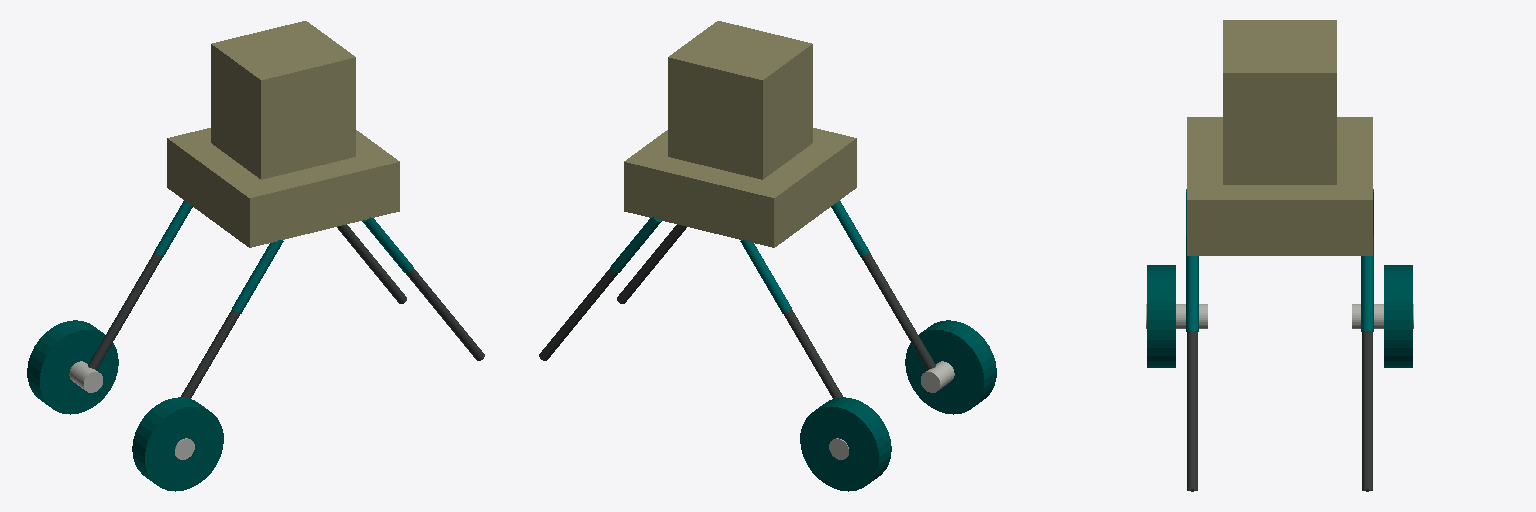
URDF robot description (five_bar_wheel_leg_balance_car):
<?xml version="1.0"?>
<robot name="five_bar_wheel_leg_balance_car">
    <material name="body_mat">
        <color rgba="0.56 0.55 0.41 1.0" />
    </material>
    <material name="link_teal">
        <color rgba="0.0 0.42 0.42 1.0" />
    </material>
    <material name="link_dark">
        <color rgba="0.25 0.27 0.26 1.0" />
    </material>
    <material name="wheel_mat">
        <color rgba="0.0 0.36 0.35 1.0" />
    </material>
    <material name="metal_mat">
        <color rgba="0.72 0.72 0.70 1.0" />
    </material>

    <link name="world" />

    <joint name="floating_base" type="floating">
        <parent link="world" />
        <child link="base_link" />
        <origin xyz="0 0 0" rpy="0 0 0" />
    </joint>

    <link name="base_link">
        <inertial>
            <origin xyz="0 0 0.1265" rpy="0 0 0" />
            <mass value="2.30" />
            <inertia ixx="0.0423" ixy="0.0" ixz="0.0" iyy="0.0447" iyz="0.0" izz="0.0406" />
        </inertial>
        <visual>
            <origin xyz="0 0 0.06" rpy="0 0 0" />
            <geometry>
                <box size="0.38 0.36 0.12" />
            </geometry>
            <material name="body_mat" />
        </visual>
        <collision>
            <origin xyz="0 0 0.06" rpy="0 0 0" />
            <geometry>
                <box size="0.38 0.36 0.12" />
            </geometry>
        </collision>
        <visual>
            <origin xyz="0 0 0.24" rpy="0 0 0" />
            <geometry>
                <box size="0.24 0.22 0.24" />
            </geometry>
            <material name="body_mat" />
        </visual>
        <collision>
            <origin xyz="0 0 0.24" rpy="0 0 0" />
            <geometry>
                <box size="0.24 0.22 0.24" />
            </geometry>
        </collision>
    </link>

    <!-- Left five-bar wheel leg, link plane y=0.17, wheel center y=0.23. -->
    <link name="left_front_upper_link">
        <inertial>
            <origin xyz="0.0922 0 0" rpy="0 0 0" />
            <mass value="0.09" />
            <inertia ixx="0.00012" ixy="0.0" ixz="0.0" iyy="0.00029" iyz="0.0" izz="0.00022" />
        </inertial>
        <visual>
            <origin xyz="0.0922 0 0" rpy="0 1.5704 0" />
            <geometry>
                <cylinder radius="0.012" length="0.1844" />
            </geometry>
            <material name="link_teal" />
        </visual>
        <collision>
            <origin xyz="0.0922 0 0" rpy="0 1.5704 0" />
            <geometry>
                <cylinder radius="0.012" length="0.1844" />
            </geometry>
        </collision>
    </link>

    <joint name="left_front_hip_joint" type="revolute">
        <parent link="base_link" />
        <child link="left_front_upper_link" />
        <origin xyz="0.11 0.17 0" rpy="0 0 0" />
        <axis xyz="0 1 0" />
        <limit lower="0.1" upper="1.8" effort="18" velocity="10" />
        <dynamics damping="0.04" friction="0.01" />
    </joint>

    <link name="left_front_lower_link">
        <inertial>
            <origin xyz="0.1565 0 0" rpy="0 0 0" />
            <mass value="0.12" />
            <inertia ixx="0.00018" ixy="0.0" ixz="0.0" iyy="0.00108" iyz="0.0" izz="0.00094" />
        </inertial>
        <visual>
            <origin xyz="0.1565 0 0" rpy="0 -1.57 0" />
            <geometry>
                <cylinder radius="0.011" length="0.3130" />
            </geometry>
            <material name="link_dark" />
        </visual>
        <collision>
            <origin xyz="0.1565 0 0" rpy="0 -1.57 0" />
            <geometry>
                <cylinder radius="0.011" length="0.3130" />
            </geometry>
        </collision>
    </link>

    <joint name="left_front_knee_joint" type="revolute">
        <parent link="left_front_upper_link" />
        <child link="left_front_lower_link" />
        <origin xyz="0.1844 0 0" rpy="0 0 0" />
        <axis xyz="0 1 0" />
        <limit lower="0" upper="3.14159" effort="3" velocity="12" />
        <dynamics damping="0.02" friction="0.004" />
    </joint>

    <link name="left_rear_upper_link">
        <inertial>
            <origin xyz="0.0922 0 0" rpy="0 0 0" />
            <mass value="0.09" />
            <inertia ixx="0.00012" ixy="0.0" ixz="0.0" iyy="0.00029" iyz="0.0" izz="0.00022" />
        </inertial>
        <visual>
            <origin xyz="0.0922 0 0" rpy="0 1.5704 0" />
            <geometry>
                <cylinder radius="0.012" length="0.1844" />
            </geometry>
            <material name="link_teal" />
        </visual>
        <collision>
            <origin xyz="0.0922 0 0" rpy="0 1.5704 0" />
            <geometry>
                <cylinder radius="0.012" length="0.1844" />
            </geometry>
        </collision>
    </link>

    <joint name="left_rear_hip_joint" type="revolute">
        <parent link="base_link" />
        <child link="left_rear_upper_link" />
        <origin xyz="-0.11 0.17 0" rpy="0 0 0" />
        <axis xyz="0 1 0" />
        <limit lower="1.34159" upper="3.041592" effort="18" velocity="10" />
        <dynamics damping="0.04" friction="0.01" />
    </joint>

    <link name="left_rear_lower_link">
        <inertial>
            <origin xyz="0.1565 0 0" rpy="0 0 0" />
            <mass value="0.12" />
            <inertia ixx="0.00018" ixy="0.0" ixz="0.0" iyy="0.00108" iyz="0.0" izz="0.00094" />
        </inertial>
        <visual>
            <origin xyz="0.1565 0 0" rpy="0 -1.57 0" />
            <geometry>
                <cylinder radius="0.011" length="0.3130" />
            </geometry>
            <material name="link_dark" />
        </visual>
        <collision>
            <origin xyz="0.1565 0 0" rpy="0 -1.57 0" />
            <geometry>
                <cylinder radius="0.011" length="0.3130" />
            </geometry>
        </collision>
    </link>

    <joint name="left_rear_knee_joint" type="revolute">
        <parent link="left_rear_upper_link" />
        <child link="left_rear_lower_link" />
        <origin xyz="0.1844 0 0" rpy="0 0 0" />
        <axis xyz="0 1 0" />
        <limit lower="-3.14159" upper="0" effort="3" velocity="12" />
        <dynamics damping="0.02" friction="0.004" />
    </joint>

    <link name="left_wheel_carrier">
        <inertial>
            <origin xyz="0 0.03 0" rpy="0 0 0" />
            <mass value="0.09" />
            <inertia ixx="0.00008" ixy="0.0" ixz="0.0" iyy="0.00004" iyz="0.0" izz="0.00008" />
        </inertial>
        <visual>
            <origin xyz="0 0.03 0" rpy="1.5708 0 0" />
            <geometry>
                <cylinder radius="0.025" length="0.12" />
            </geometry>
            <material name="metal_mat" />
        </visual>
        <collision>
            <origin xyz="0 0.03 0" rpy="1.5708 0 0" />
            <geometry>
                <cylinder radius="0.025" length="0.12" />
            </geometry>
        </collision>
    </link>

    <joint name="left_rear_ankle_joint" type="revolute">
        <parent link="left_rear_lower_link" />
        <child link="left_wheel_carrier" />
        <origin xyz="0.3130 0 0" rpy="0 0 0" />
        <axis xyz="0 1 0" />
        <limit lower="-2.80" upper="2.80" effort="3" velocity="12" />
        <dynamics damping="0.02" friction="0.004" />
    </joint>

    <link name="left_wheel">
        <inertial>
            <origin xyz="0 0 0" rpy="0 0 0" />
            <mass value="0.32" />
            <inertia ixx="0.00102" ixy="0.0" ixz="0.0" iyy="0.00102" iyz="0.0" izz="0.00160" />
        </inertial>
        <visual>
            <origin xyz="0 0 0" rpy="1.5708 0 0" />
            <geometry>
                <cylinder radius="0.10" length="0.055" />
            </geometry>
            <material name="wheel_mat" />
        </visual>
        <collision>
            <origin xyz="0 0 0" rpy="1.5708 0 0" />
            <geometry>
                <cylinder radius="0.10" length="0.055" />
            </geometry>
        </collision>
    </link>

    <joint name="left_wheel_joint" type="continuous">
        <parent link="left_wheel_carrier" />
        <child link="left_wheel" />
        <origin xyz="0 0.06 0" rpy="0 0 0" />
        <axis xyz="0 1 0" />
        <limit effort="16" velocity="45" />
        <dynamics damping="0.01" friction="0.004" />
    </joint>

    <!-- Right five-bar wheel leg, mirrored about the x-z plane. -->
    <link name="right_front_upper_link">
        <inertial>
            <origin xyz="0.0922 0 0" rpy="0 0 0" />
            <mass value="0.09" />
            <inertia ixx="0.00012" ixy="0.0" ixz="0.0" iyy="0.00029" iyz="0.0" izz="0.00022" />
        </inertial>
        <visual>
            <origin xyz="0.0922 0 0" rpy="0 1.5704 0" />
            <geometry>
                <cylinder radius="0.012" length="0.1844" />
            </geometry>
            <material name="link_teal" />
        </visual>
        <collision>
            <origin xyz="0.0922 0 0" rpy="0 1.5704 0" />
            <geometry>
                <cylinder radius="0.012" length="0.1844" />
            </geometry>
        </collision>
    </link>

    <joint name="right_front_hip_joint" type="revolute">
        <parent link="base_link" />
        <child link="right_front_upper_link" />
        <origin xyz="0.11 -0.17 0" rpy="0 0 0" />
        <axis xyz="0 1 0" />
        <limit lower="0.1" upper="1.8" effort="18" velocity="10" />
        <dynamics damping="0.04" friction="0.01" />
    </joint>

    <link name="right_front_lower_link">
        <inertial>
            <origin xyz="0.1565 0 0" rpy="0 0 0" />
            <mass value="0.12" />
            <inertia ixx="0.00018" ixy="0.0" ixz="0.0" iyy="0.00108" iyz="0.0" izz="0.00094" />
        </inertial>
        <visual>
            <origin xyz="0.1565 0 0" rpy="0 -1.57 0" />
            <geometry>
                <cylinder radius="0.011" length="0.3130" />
            </geometry>
            <material name="link_dark" />
        </visual>
        <collision>
            <origin xyz="0.1565 0 0" rpy="0 -1.57 0" />
            <geometry>
                <cylinder radius="0.011" length="0.3130" />
            </geometry>
        </collision>
    </link>

    <joint name="right_front_knee_joint" type="revolute">
        <parent link="right_front_upper_link" />
        <child link="right_front_lower_link" />
        <origin xyz="0.1844 0 0" rpy="0 0 0" />
        <axis xyz="0 1 0" />
        <limit lower="0" upper="3.14159" effort="3" velocity="12" />
        <dynamics damping="0.02" friction="0.004" />
    </joint>

    <link name="right_rear_upper_link">
        <inertial>
            <origin xyz="0.0922 0 0" rpy="0 0 0" />
            <mass value="0.09" />
            <inertia ixx="0.00012" ixy="0.0" ixz="0.0" iyy="0.00029" iyz="0.0" izz="0.00022" />
        </inertial>
        <visual>
            <origin xyz="0.0922 0 0" rpy="0 1.5704 0" />
            <geometry>
                <cylinder radius="0.012" length="0.1844" />
            </geometry>
            <material name="link_teal" />
        </visual>
        <collision>
            <origin xyz="0.0922 0 0" rpy="0 1.5704 0" />
            <geometry>
                <cylinder radius="0.012" length="0.1844" />
            </geometry>
        </collision>
    </link>

    <joint name="right_rear_hip_joint" type="revolute">
        <parent link="base_link" />
        <child link="right_rear_upper_link" />
        <origin xyz="-0.11 -0.17 0" rpy="0 0 0" />
        <axis xyz="0 1 0" />
        <limit lower="1.34159" upper="3.041592" effort="18" velocity="10" />
        <dynamics damping="0.04" friction="0.01" />
    </joint>

    <link name="right_rear_lower_link">
        <inertial>
            <origin xyz="0.1565 0 0" rpy="0 0 0" />
            <mass value="0.12" />
            <inertia ixx="0.00018" ixy="0.0" ixz="0.0" iyy="0.00108" iyz="0.0" izz="0.00094" />
        </inertial>
        <visual>
            <origin xyz="0.1565 0 0" rpy="0 -1.57 0" />
            <geometry>
                <cylinder radius="0.011" length="0.3130" />
            </geometry>
            <material name="link_dark" />
        </visual>
        <collision>
            <origin xyz="0.1565 0 0" rpy="0 -1.57 0" />
            <geometry>
                <cylinder radius="0.011" length="0.3130" />
            </geometry>
        </collision>
    </link>

    <joint name="right_rear_knee_joint" type="revolute">
        <parent link="right_rear_upper_link" />
        <child link="right_rear_lower_link" />
        <origin xyz="0.1844 0 0" rpy="0 0 0" />
        <axis xyz="0 1 0" />
        <limit lower="-3.14159" upper="0" effort="3" velocity="12" />
        <dynamics damping="0.02" friction="0.004" />
    </joint>

    <link name="right_wheel_carrier">
        <inertial>
            <origin xyz="0 -0.03 0" rpy="0 0 0" />
            <mass value="0.09" />
            <inertia ixx="0.00008" ixy="0.0" ixz="0.0" iyy="0.00004" iyz="0.0" izz="0.00008" />
        </inertial>
        <visual>
            <origin xyz="0 -0.03 0" rpy="1.5708 0 0" />
            <geometry>
                <cylinder radius="0.025" length="0.12" />
            </geometry>
            <material name="metal_mat" />
        </visual>
        <collision>
            <origin xyz="0 -0.03 0" rpy="1.5708 0 0" />
            <geometry>
                <cylinder radius="0.025" length="0.12" />
            </geometry>
        </collision>
    </link>

    <joint name="right_rear_ankle_joint" type="revolute">
        <parent link="right_rear_lower_link" />
        <child link="right_wheel_carrier" />
        <origin xyz="0.3130 0 0" rpy="0 0 0" />
        <axis xyz="0 1 0" />
        <limit lower="-2.80" upper="2.80" effort="3" velocity="12" />
        <dynamics damping="0.02" friction="0.004" />
    </joint>

    <link name="right_wheel">
        <inertial>
            <origin xyz="0 0 0" rpy="0 0 0" />
            <mass value="0.32" />
            <inertia ixx="0.00102" ixy="0.0" ixz="0.0" iyy="0.00102" iyz="0.0" izz="0.00160" />
        </inertial>
        <visual>
            <origin xyz="0 0 0" rpy="1.5708 0 0" />
            <geometry>
                <cylinder radius="0.10" length="0.055" />
            </geometry>
            <material name="wheel_mat" />
        </visual>
        <collision>
            <origin xyz="0 0 0" rpy="1.5708 0 0" />
            <geometry>
                <cylinder radius="0.10" length="0.055" />
            </geometry>
        </collision>
    </link>

    <joint name="right_wheel_joint" type="continuous">
        <parent link="right_wheel_carrier" />
        <child link="right_wheel" />
        <origin xyz="0 -0.06 0" rpy="0 0 0" />
        <axis xyz="0 1 0" />
        <limit effort="16" velocity="45" />
        <dynamics damping="0.01" friction="0.004" />
    </joint>
</robot>

--- Facts derived from the render (not from the file) ---
The picture shows the robot from 3 angles, left to right: view 1: azimuth 30°, elevation 25°; view 2: azimuth 150°, elevation 25°; view 3: azimuth 270°, elevation 25°; orthographic projection.
Model five_bar_wheel_leg_balance_car with 14 links and 13 joints (10 revolute, 2 continuous, 1 floating), rooted at world, posed all joints at 0 but 4 set to mid-range because 0 is outside their limits (left_front_hip_joint = 0.95, left_rear_hip_joint = 2.19, right_front_hip_joint = 0.95, right_rear_hip_joint = 2.19).
Links seen in each view (by area): view 1: base_link, right_wheel, left_wheel, left_rear_lower_link, right_front_lower_link, right_rear_lower_link, left_front_lower_link, right_rear_upper_link, right_front_upper_link, left_wheel_carrier, left_rear_upper_link; view 2: base_link, left_wheel, right_wheel, right_rear_lower_link, left_front_lower_link, left_rear_lower_link, right_front_lower_link, left_rear_upper_link, left_front_upper_link, right_wheel_carrier, right_rear_upper_link; view 3: base_link, left_wheel, right_wheel, left_front_lower_link, right_front_lower_link, left_front_upper_link, right_front_upper_link.
Boxes of the visible links, x1,y1,x2,y2 form: base_link: [167, 21, 399, 247]; right_wheel: [132, 397, 223, 491]; left_wheel: [27, 320, 118, 414]; left_rear_lower_link: [88, 252, 162, 369]; right_front_lower_link: [406, 267, 484, 360]; right_rear_lower_link: [181, 309, 239, 398]; left_front_lower_link: [337, 224, 406, 303]; right_rear_upper_link: [232, 240, 283, 313]; right_front_upper_link: [362, 217, 412, 273]; left_wheel_carrier: [69, 361, 102, 392]; left_rear_upper_link: [154, 201, 192, 256]; base_link: [624, 21, 856, 247]; left_wheel: [800, 397, 891, 491]; right_wheel: [905, 320, 996, 414]; right_rear_lower_link: [861, 252, 935, 369]; left_front_lower_link: [539, 267, 617, 360]; left_rear_lower_link: [784, 309, 842, 398]; right_front_lower_link: [617, 224, 686, 303]; left_rear_upper_link: [740, 240, 791, 313]; left_front_upper_link: [611, 217, 661, 273]; right_wheel_carrier: [921, 361, 954, 392]; right_rear_upper_link: [831, 201, 869, 256]; base_link: [1187, 20, 1372, 255]; left_wheel: [1384, 265, 1412, 367]; right_wheel: [1147, 265, 1175, 367]; left_front_lower_link: [1362, 331, 1372, 491]; right_front_lower_link: [1187, 331, 1197, 491]; left_front_upper_link: [1361, 238, 1373, 331]; right_front_upper_link: [1186, 238, 1198, 331].
Bounding box of the posed robot: 0.9075 × 0.52 × 0.8645 m (x, y, z).
Geometry: primitives only (box / cylinder / sphere), no mesh files.
